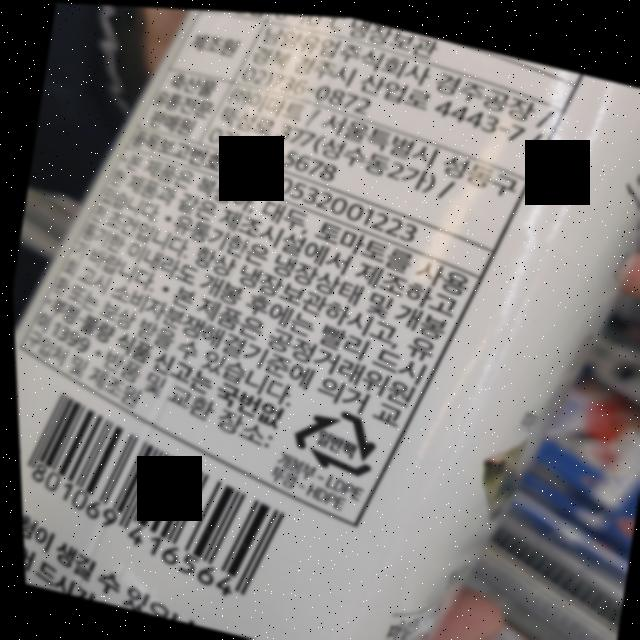NormalPack: (283, 397, 379, 477)
